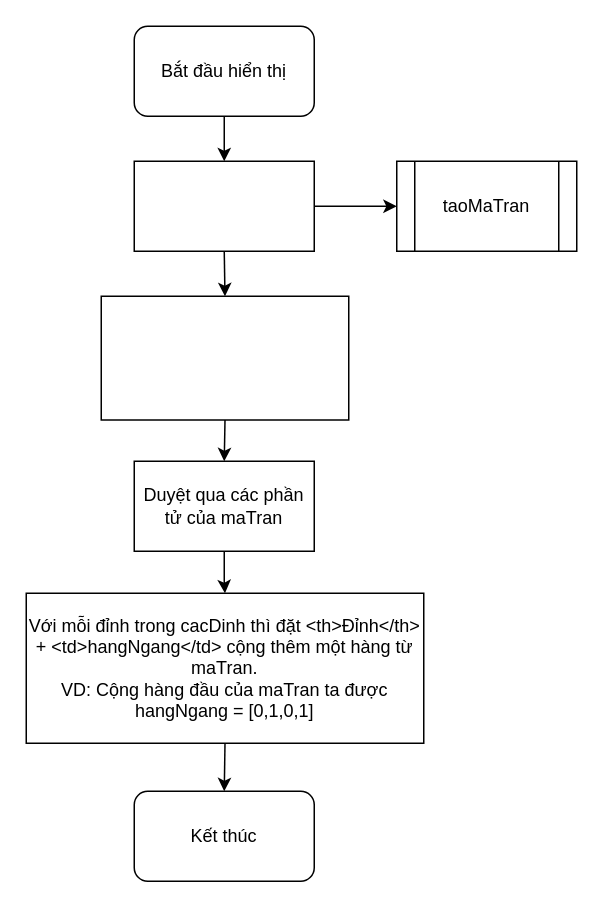
This 603x908 diagram has some shape labels left out. The centre of each missing label's shape, as x and y in pixels:
"Cho mảng maTran có giá trị của hàm con taoMaTran" goes at point 223,205.
"Với mỗi đỉnh trong cacDinh đặt <th> </th> cho đỉnh đó. VD: <th>A</th><th>B</th>" goes at point 224,357.
